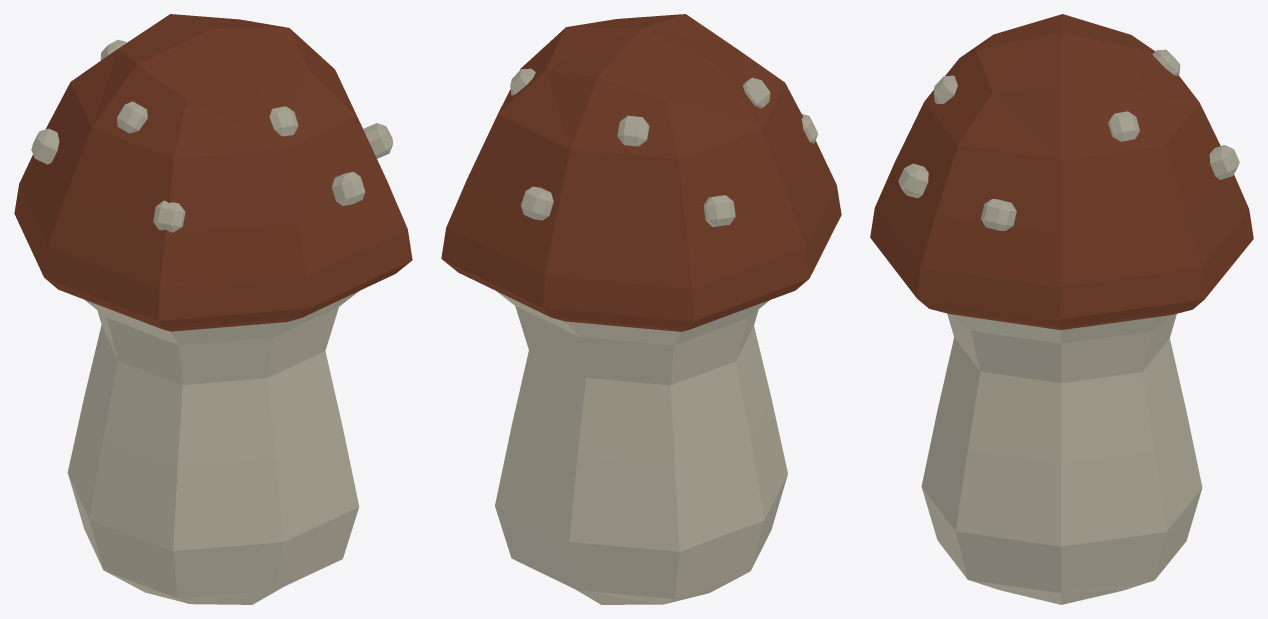
File: Mushroom_2.glb
The picture shows the model from 3 angles, left to right: view 1: azimuth 30°, elevation 25°; view 2: azimuth 150°, elevation 25°; view 3: azimuth 270°, elevation 25°; orthographic projection.
Parts seen in each view (by area): view 1: Mushroom_2; view 2: Mushroom_2; view 3: Mushroom_2.
Part boxes in pixels (x1,y1,x2,y2): Mushroom_2: (14,14,412,604); Mushroom_2: (441,14,841,604); Mushroom_2: (870,14,1253,604).
Size of the model in its own units: 0.1415 by 0.2237 by 0.1415.
